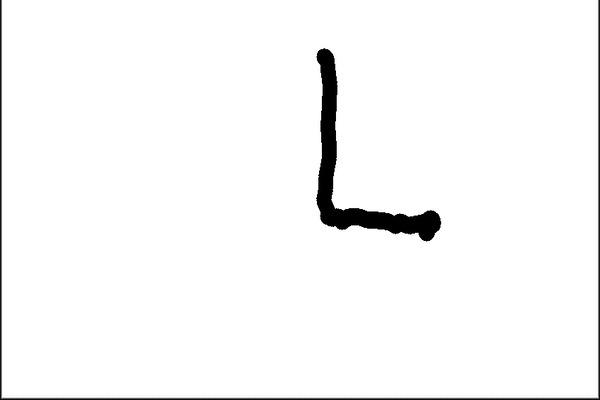L: (304, 40, 447, 250)
